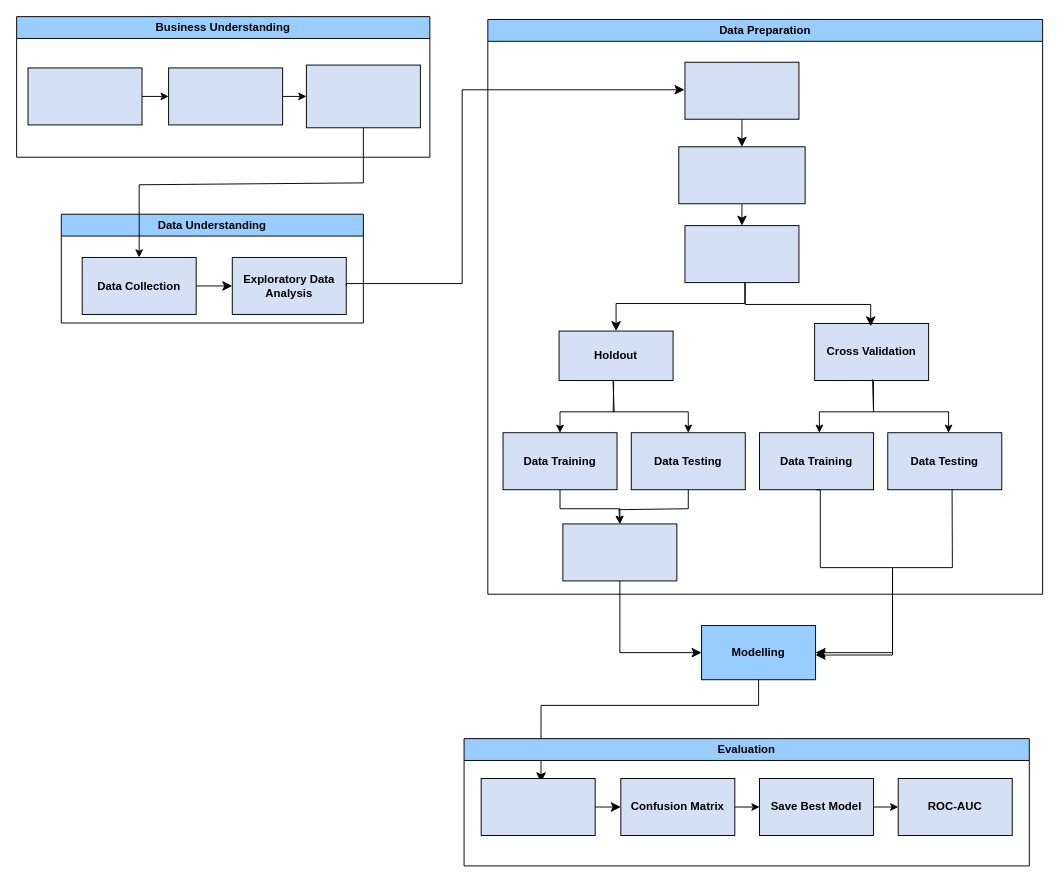
The diagram is 1059 pixels wide and 883 high, and some of its shapes have lost their labels. Here are the shapes that lost their labels. From the top down, the centre of each, then its label:
(84,96): Understand business objectives
(225,96): Determine the purpose of data collection
(362,96): Development plan of the prediction model
(741,90): Data Cleaning
(741,175): Data Transformation
(741,254): Data Splitting
(619,552): Save CSV
(537,807): Classification
